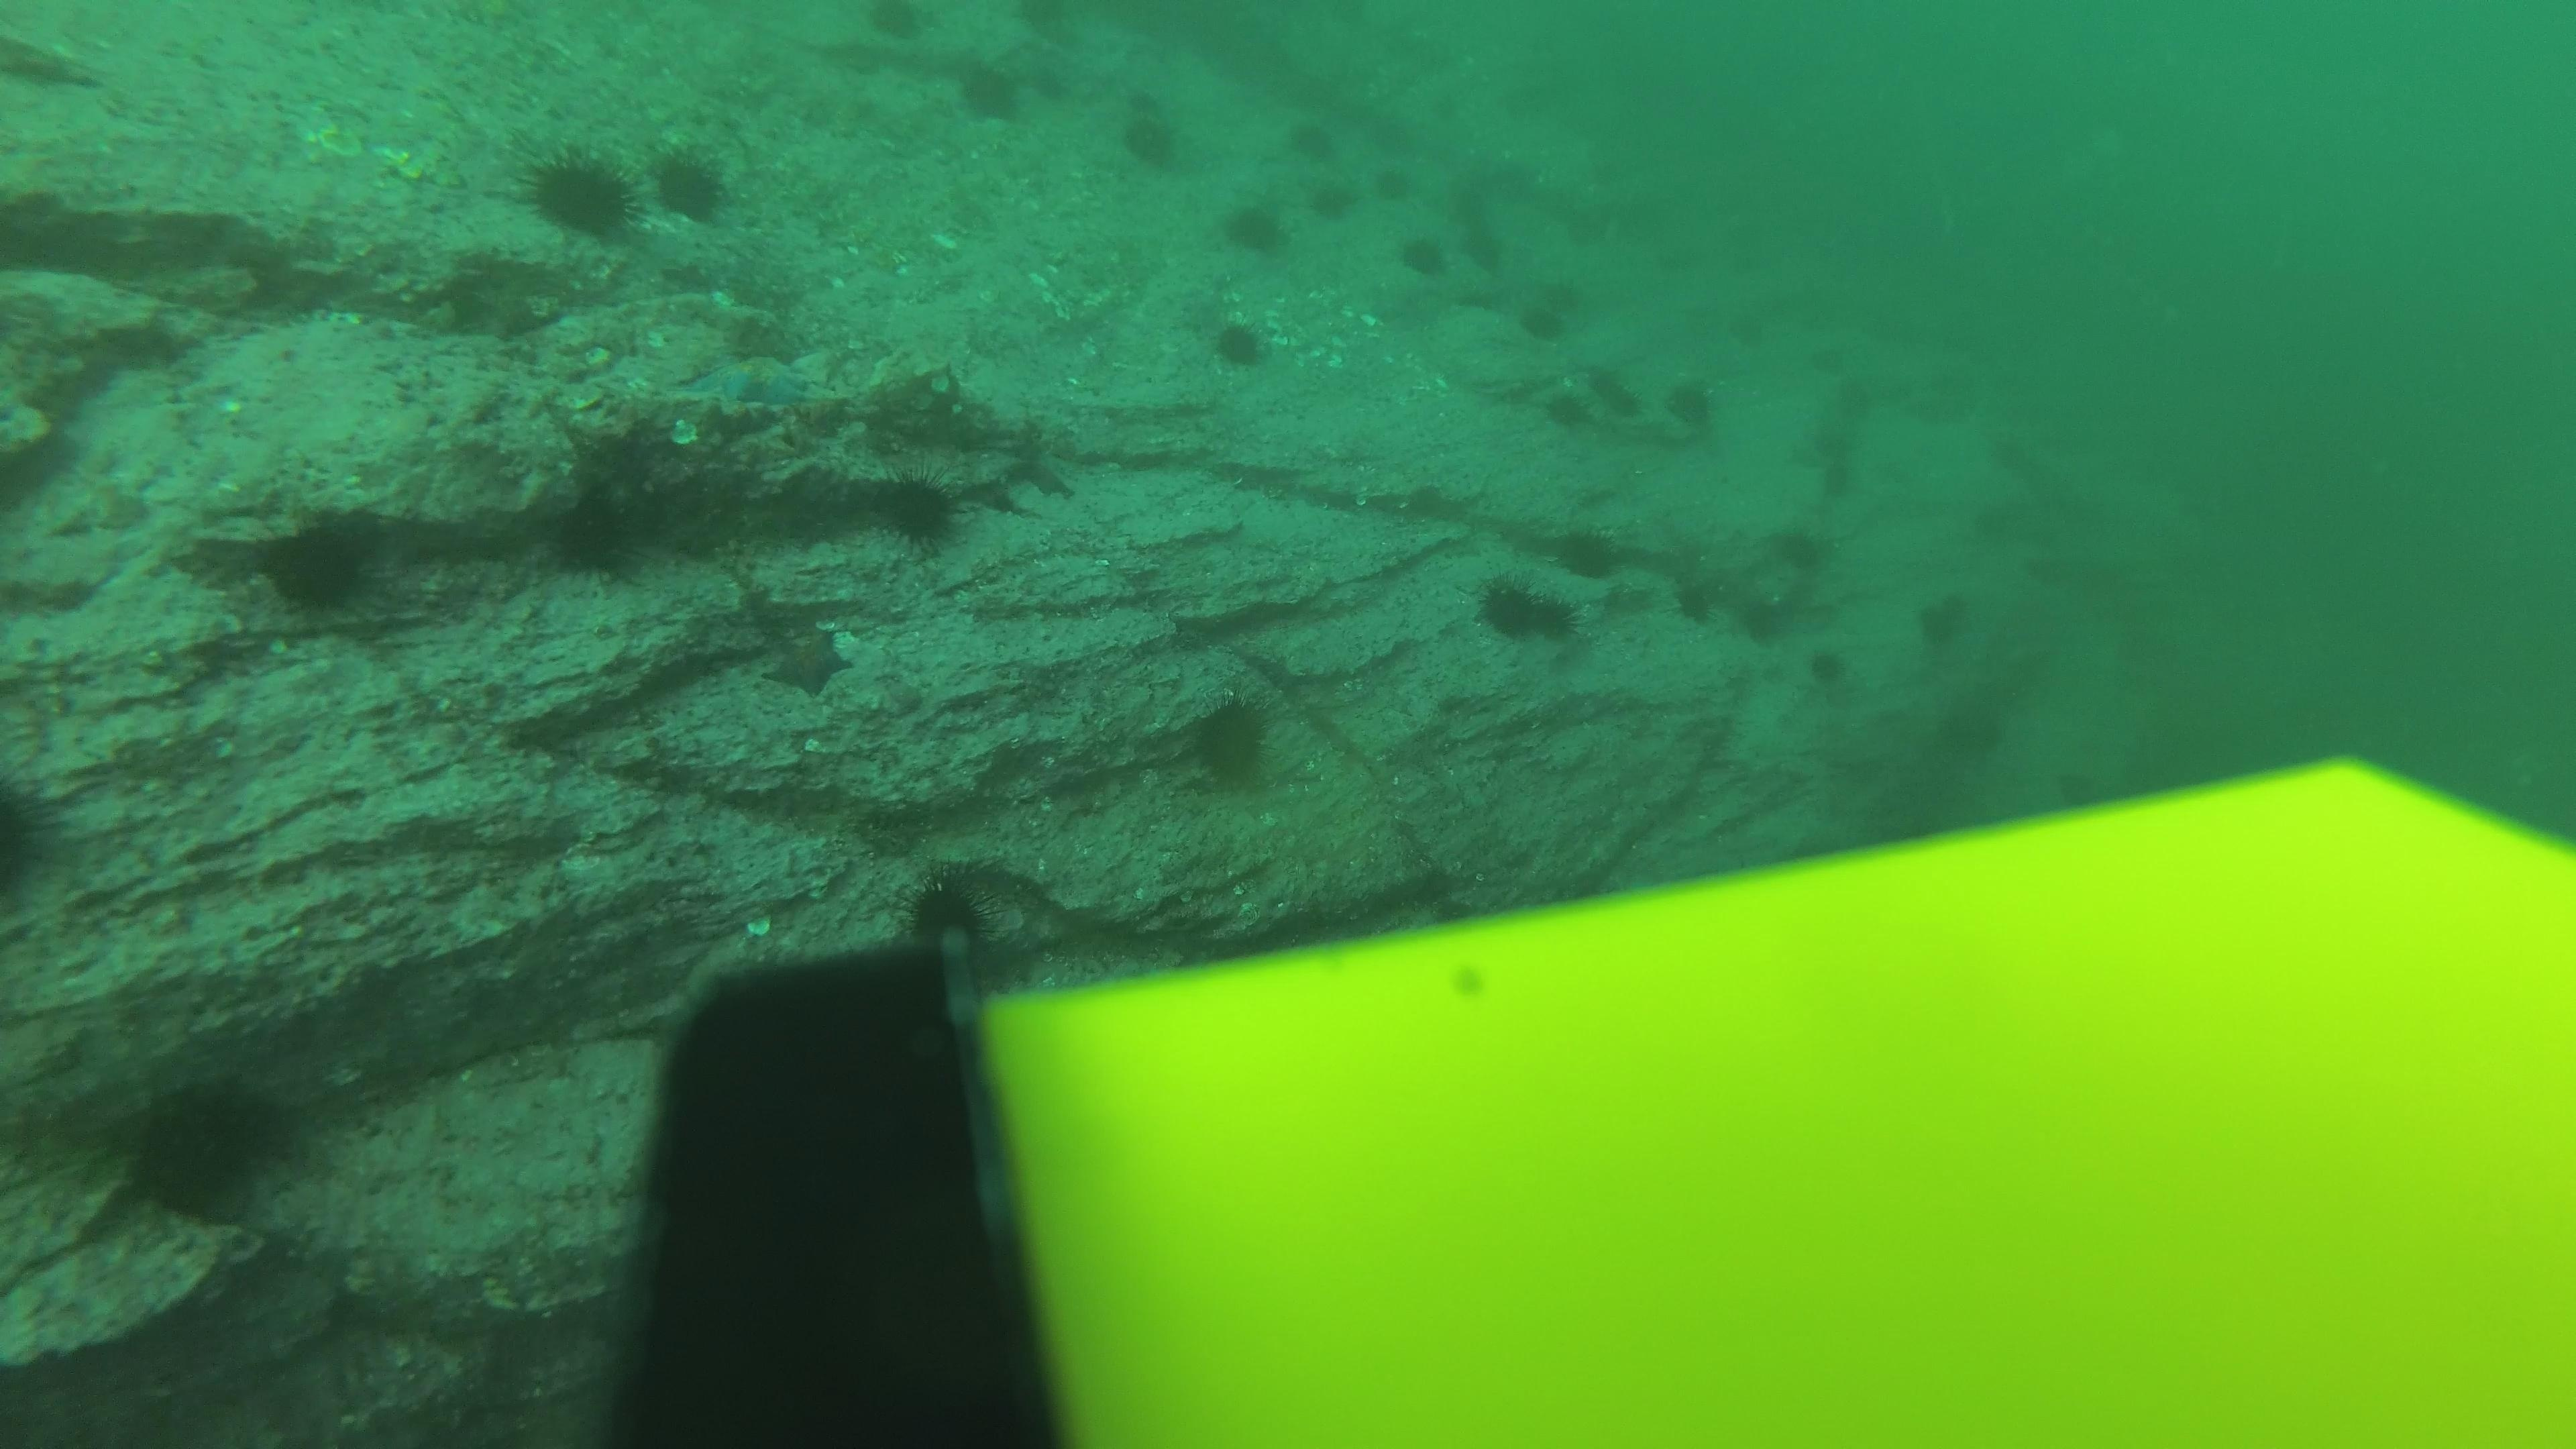echinus: (113, 1070, 297, 1224), (249, 510, 387, 619), (520, 143, 640, 244), (1178, 688, 1286, 798), (0, 766, 74, 911), (541, 481, 646, 582), (897, 867, 996, 959), (869, 469, 971, 554), (642, 142, 734, 228), (950, 55, 1030, 127), (1470, 568, 1543, 640), (1219, 195, 1292, 260), (1550, 518, 1626, 580), (1207, 313, 1272, 373), (1663, 372, 1720, 435), (1113, 117, 1175, 173), (1529, 593, 1585, 648), (1396, 228, 1449, 281), (1514, 299, 1562, 347), (1911, 605, 1959, 653), (1546, 271, 1594, 318), (1801, 648, 1851, 692), (1976, 502, 2026, 547), (1737, 602, 1785, 646), (1831, 375, 1879, 419), (1805, 341, 1852, 386), (1668, 584, 1718, 626), (1771, 529, 1821, 571), (1821, 458, 1868, 501), (1805, 299, 1852, 341), (1463, 228, 1507, 267), (874, 0, 916, 39), (1290, 119, 1332, 157), (1376, 161, 1419, 200), (1125, 81, 1169, 119), (1311, 180, 1355, 218), (1451, 180, 1493, 218), (1424, 87, 1467, 124), (1589, 361, 1629, 395), (1608, 389, 1649, 423), (1463, 285, 1502, 318), (1543, 389, 1582, 423), (1729, 308, 1767, 341)
starfish: (672, 347, 823, 418), (755, 621, 855, 699), (1003, 446, 1079, 502)
